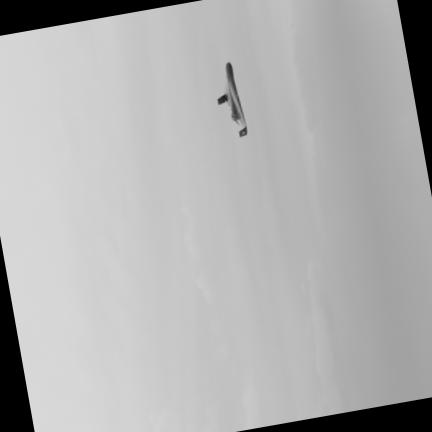Shahed: (217, 62, 247, 134)
